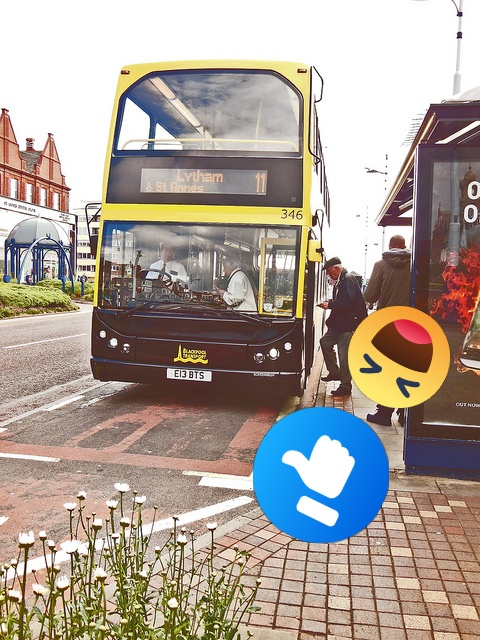haha: (348, 306, 450, 408)
like: (253, 407, 389, 543)
